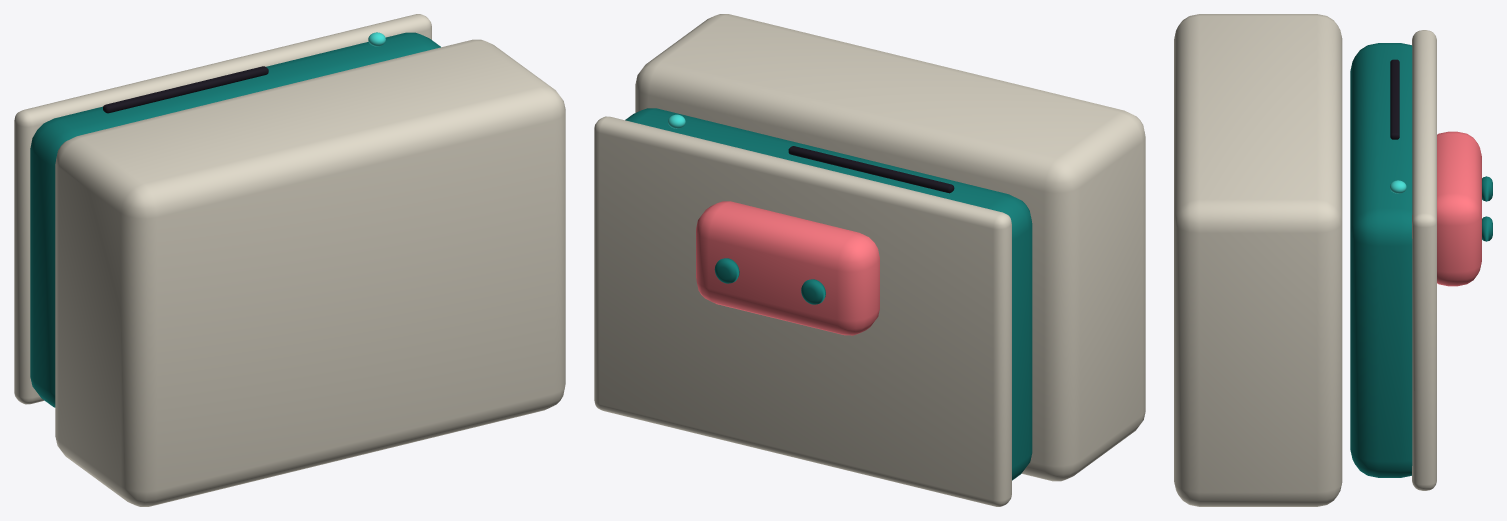
File: GameConsoleSet_Premium.fbx
3 renders of one model, left to right at view 1: azimuth 30°, elevation 25°; view 2: azimuth 150°, elevation 25°; view 3: azimuth 270°, elevation 25°, orthographic. The views are drawn at different scales.
Parts seen in each view (by area): view 1: GameConsoleSet; view 2: GameConsoleSet; view 3: GameConsoleSet.
Part boxes in pixels (x1,y1,x2,y2): GameConsoleSet: (14,14,565,506); GameConsoleSet: (594,14,1145,506); GameConsoleSet: (1174,14,1492,506).
Size of the model in its own units: 0.46 by 0.32 by 0.303.
